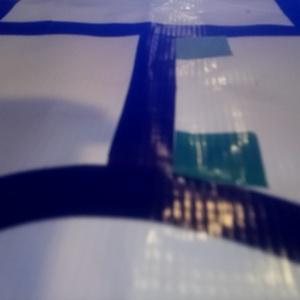bottom_right: (140, 25, 232, 58)
top_right: (115, 130, 263, 217)
